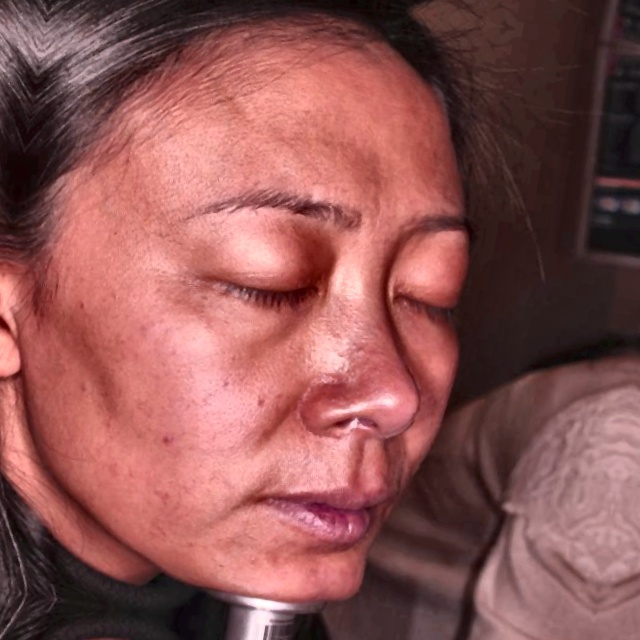comedone: (160, 425, 181, 454)
